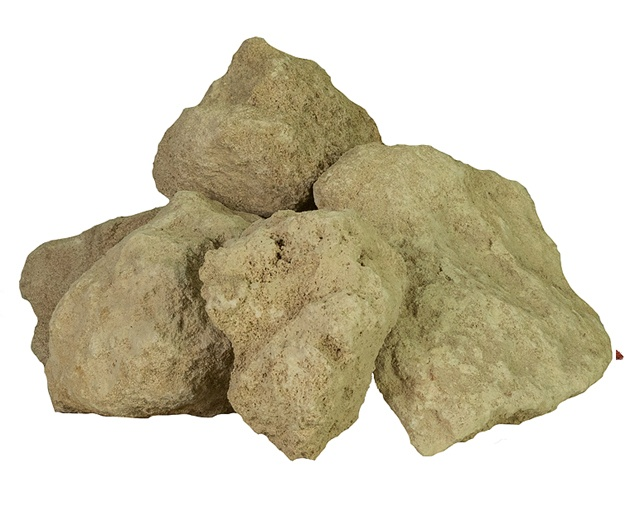obstacle: (20, 38, 610, 458)
